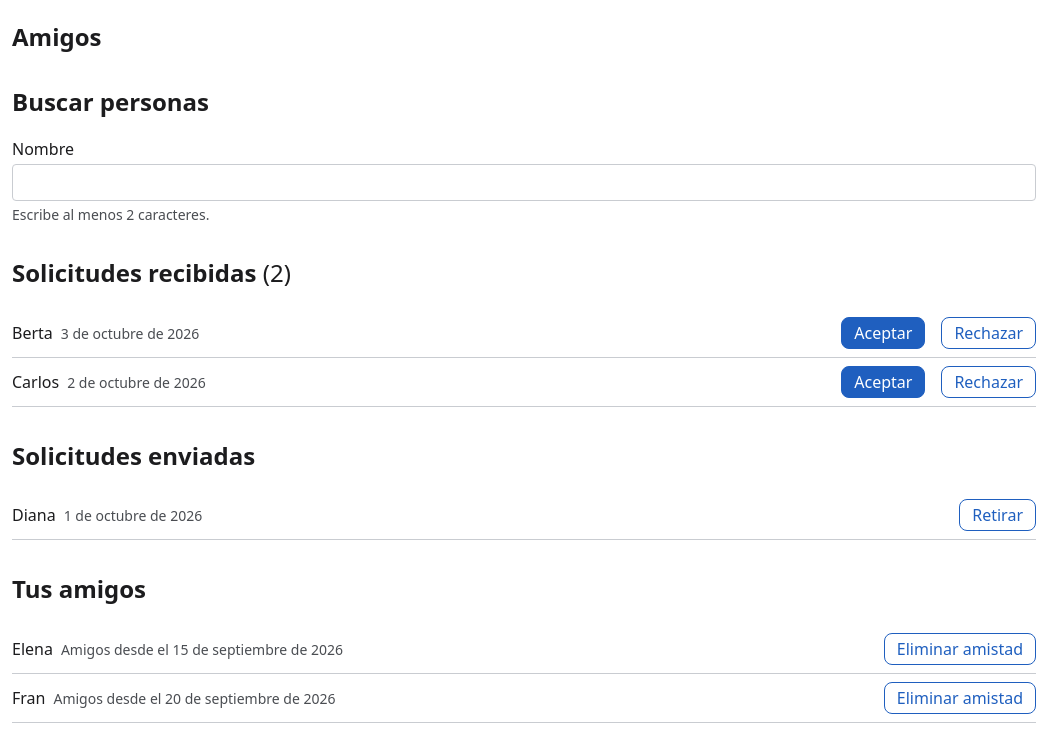
Scenario: AmigosComponent › aceptar › otro error (500) muestra el detalle y no recarga
Click the button "Aceptar" in the row of "Berta" at coordinates (883, 332), box left=841, top=316, right=925, bottom=348
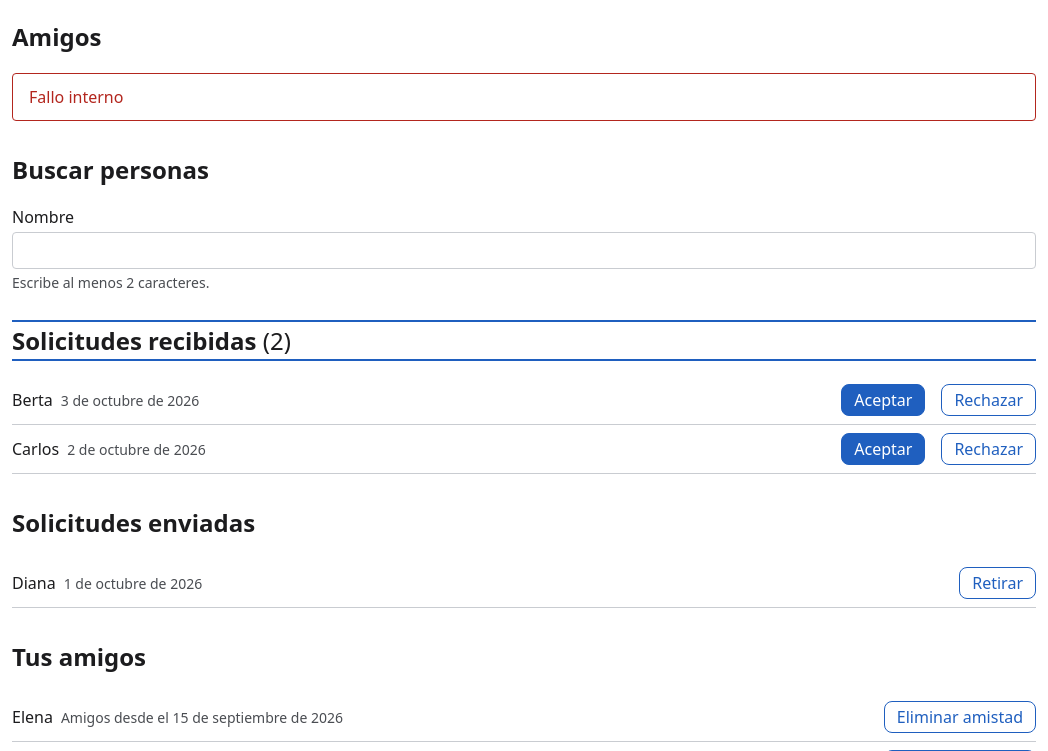
Now the message with class "error-general" reads "Fallo interno", box left=29, top=86, right=123, bottom=108
